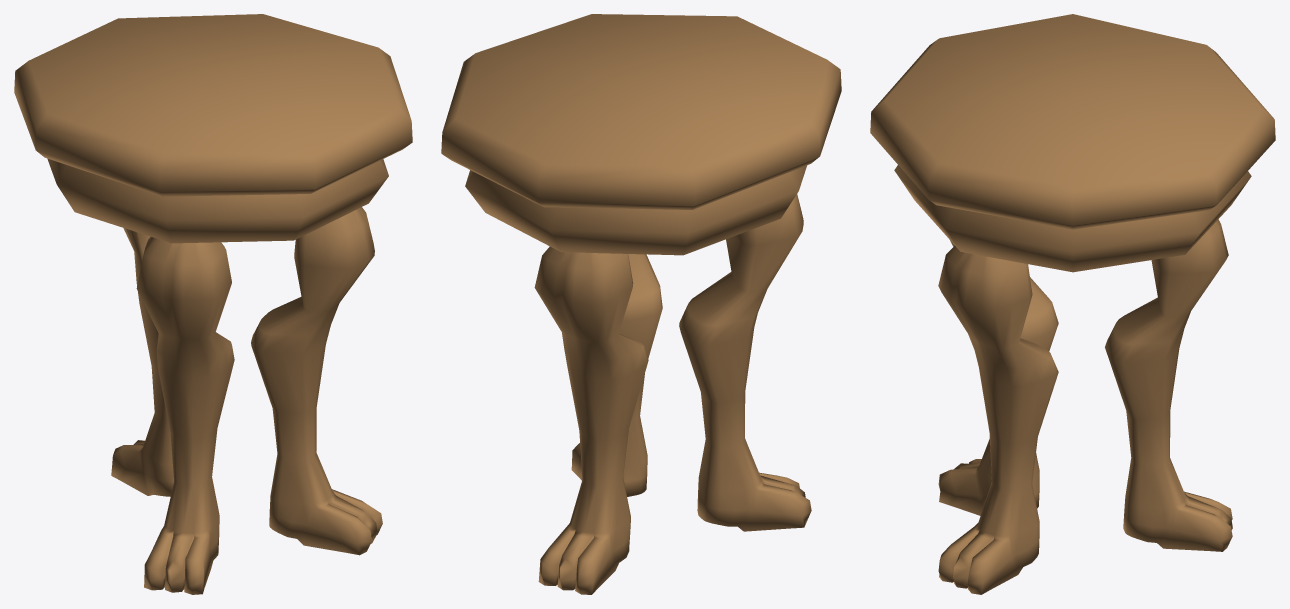
The model's file is props_gueridon.fbx.
3 views of the same model, side by side, from view 1: azimuth 30°, elevation 25°; view 2: azimuth 150°, elevation 25°; view 3: azimuth 270°, elevation 25° (orthographic).
Parts seen in each view (by area): view 1: Guéridon; view 2: Guéridon; view 3: Guéridon.
Part boxes in pixels (left/top/right/bottom): Guéridon: left=14, top=14, right=412, bottom=594; Guéridon: left=441, top=14, right=841, bottom=594; Guéridon: left=870, top=14, right=1275, bottom=594.
Size of the model in its own units: 0.6657 by 0.6657 by 0.8093.
